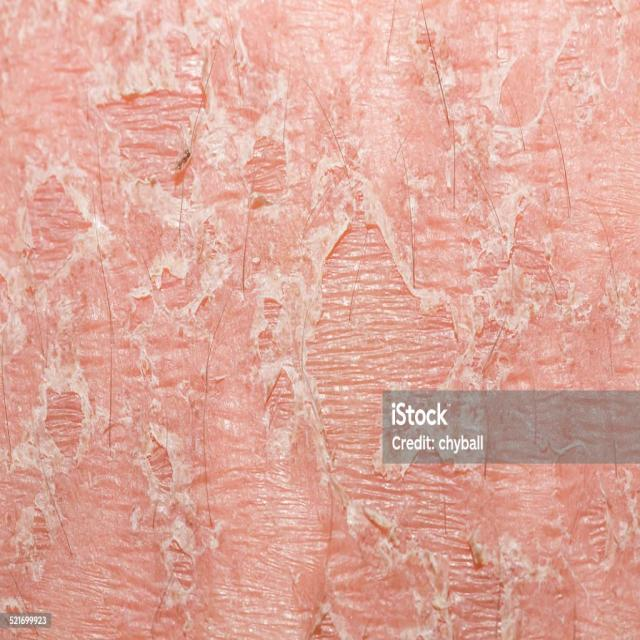Dry-Skin: (144, 8, 375, 369), (399, 17, 611, 387), (323, 340, 566, 640), (5, 111, 124, 470), (130, 342, 265, 640)
